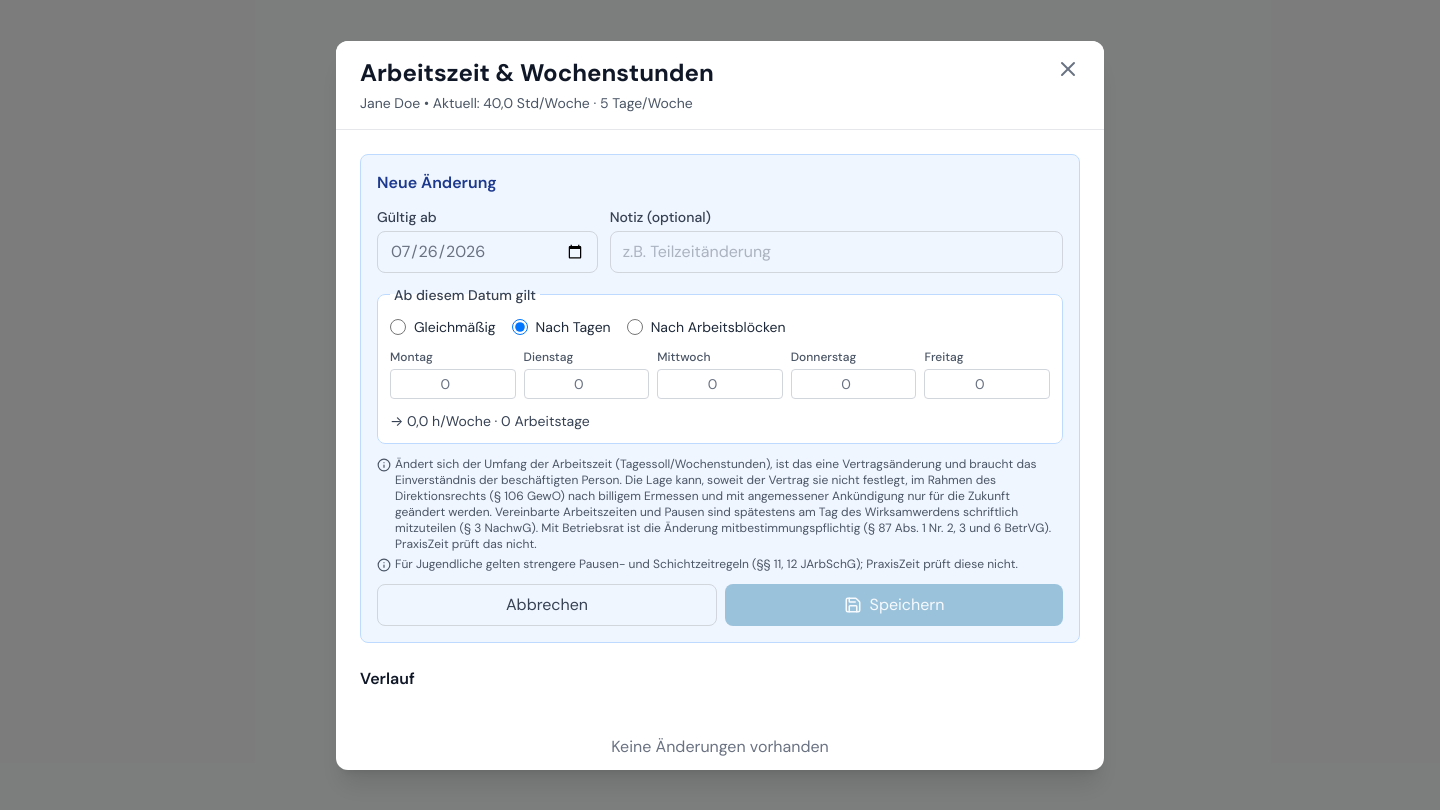
it: #431: Modus-Umschalter, Tagesplan und erweiterte Vorschau › berechnet die Wochenstunden als Summe der Tageswerte
Step 1. Replace the text in the number field labelled "Montag" with "8" → (453, 384), box [390, 368, 516, 398]
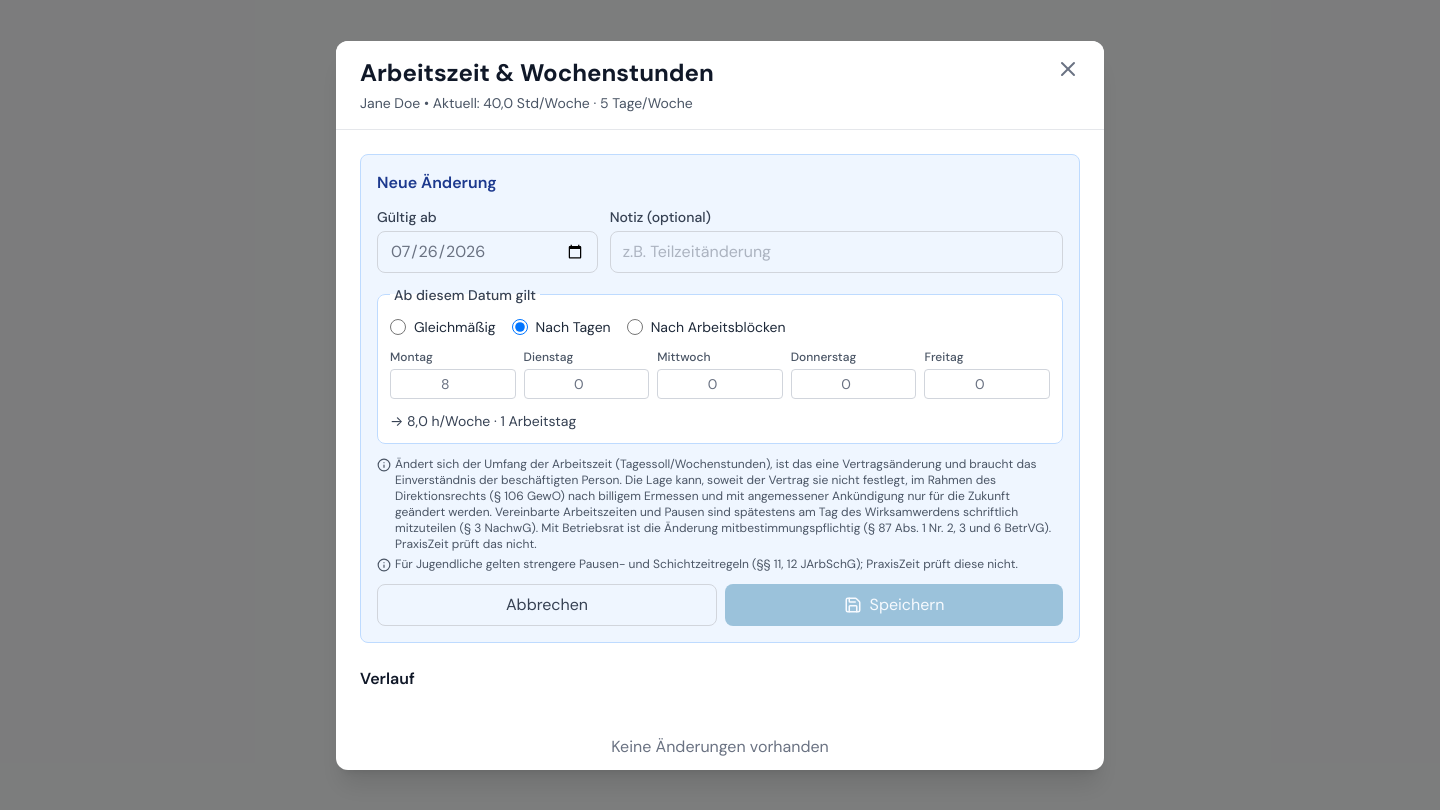
Step 2. Replace the text in the number field labelled "Mittwoch" with "4" → (720, 384), box [657, 368, 783, 398]
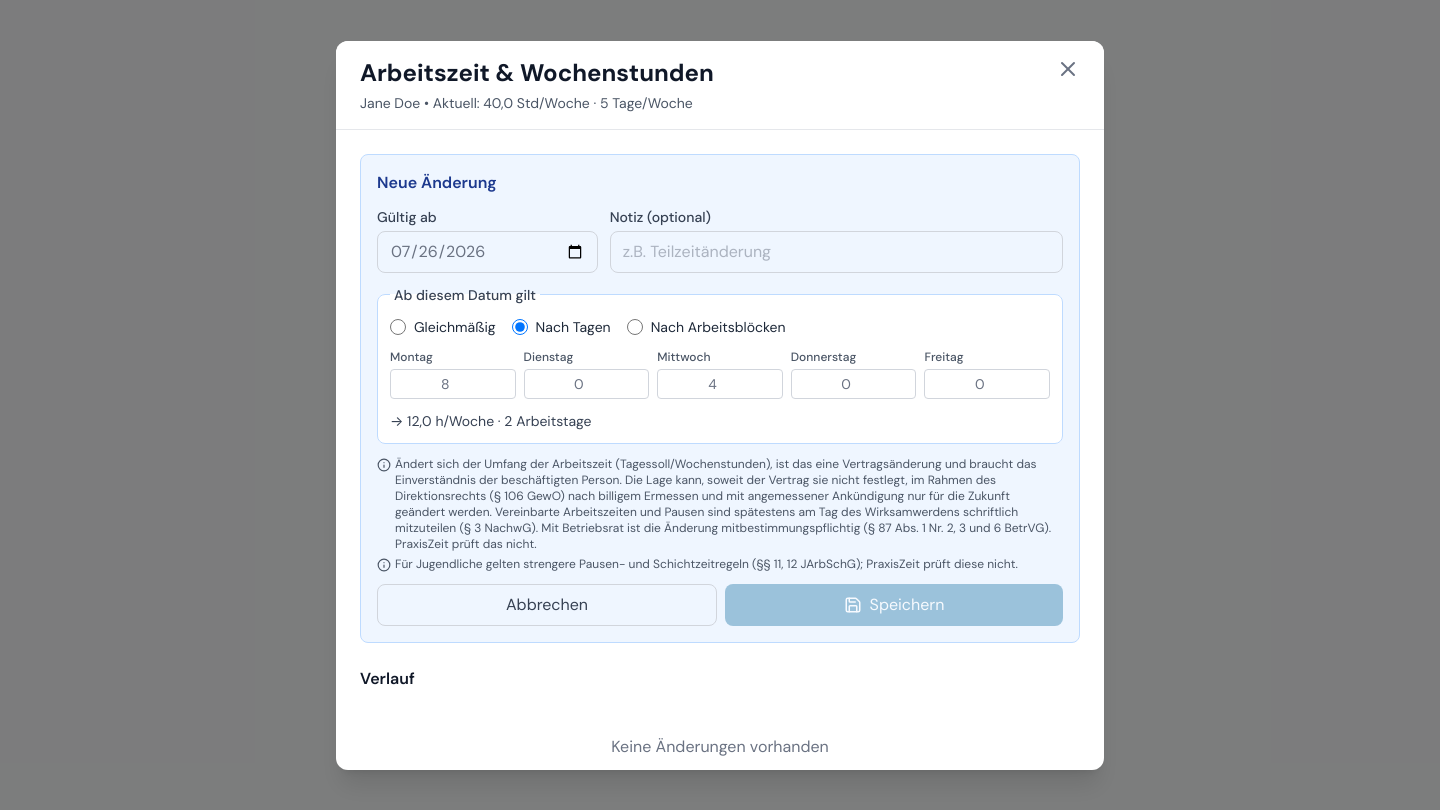
Expected: the text "→ 12,0 h/Woche · 2 Arbeitstage" is shown, [390, 412, 592, 430]
